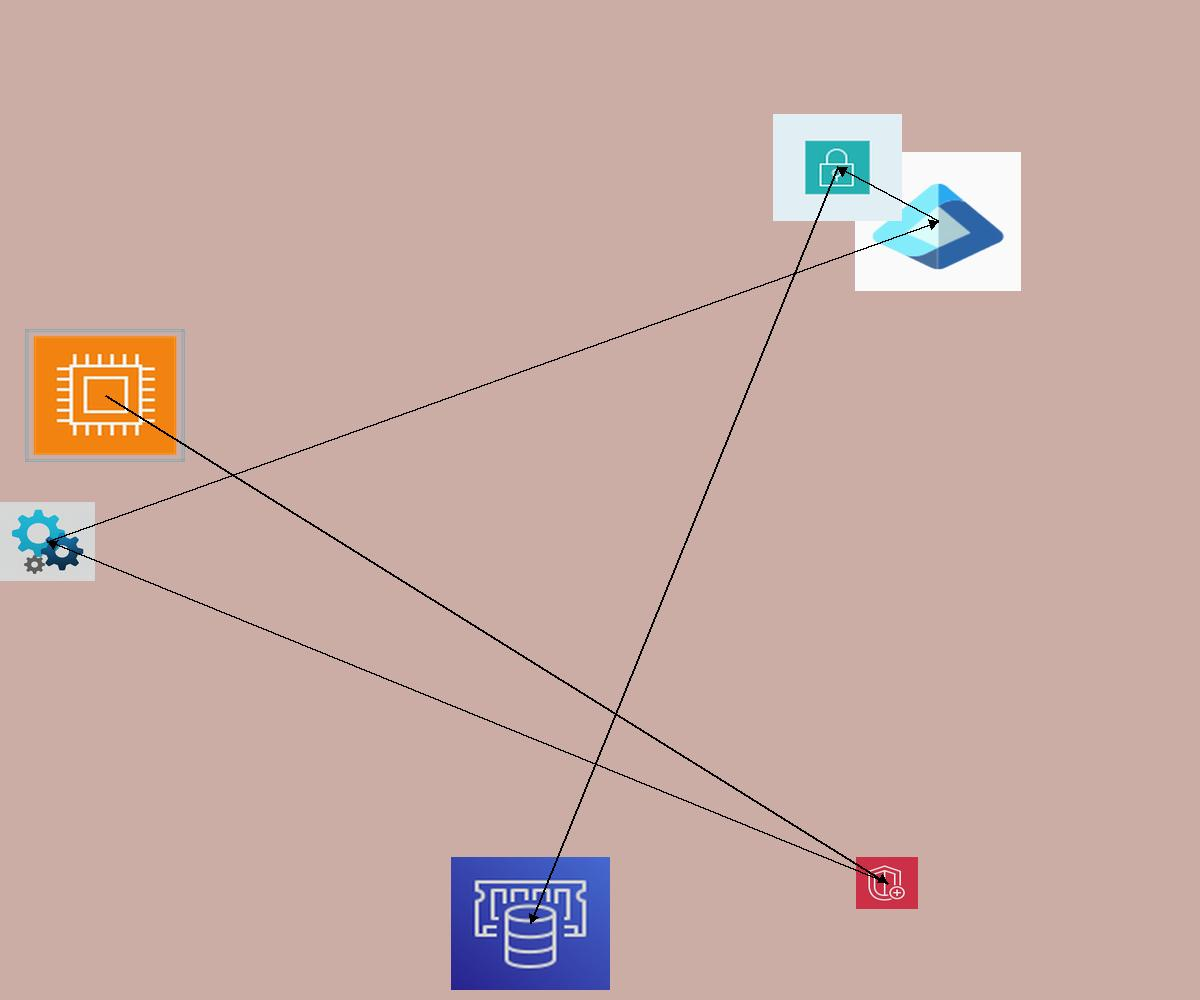AWS-Category_Compute: (25, 329, 185, 462)
AWS-ElastiCache: (451, 857, 610, 990)
AWS-Private-subnet: (773, 114, 902, 221)
AWS-Shield: (856, 857, 918, 909)
Azure_api: (0, 502, 95, 581)
Azure_microsoft_entra: (855, 152, 1021, 291)
